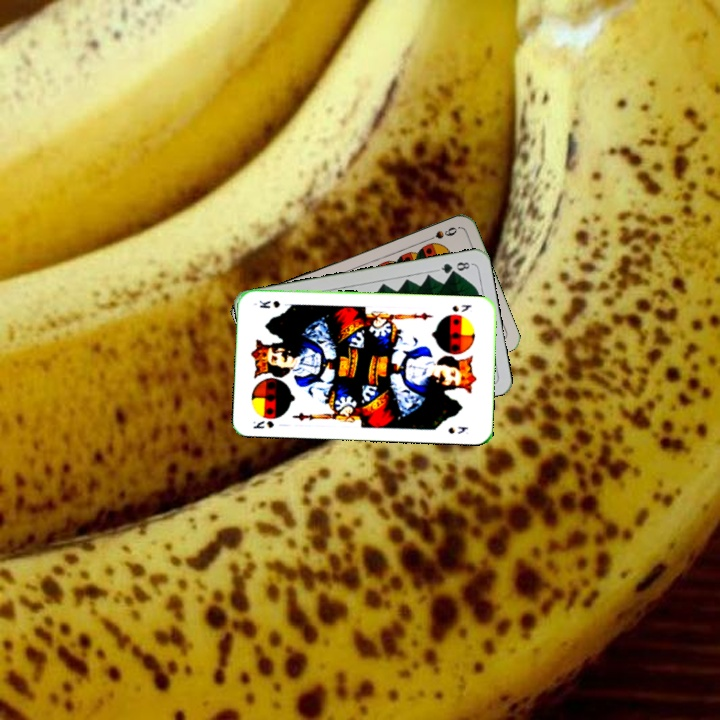G8: (434, 258, 474, 276)
S9: (421, 223, 460, 244)
SK: (249, 417, 276, 431), (448, 301, 474, 314)
